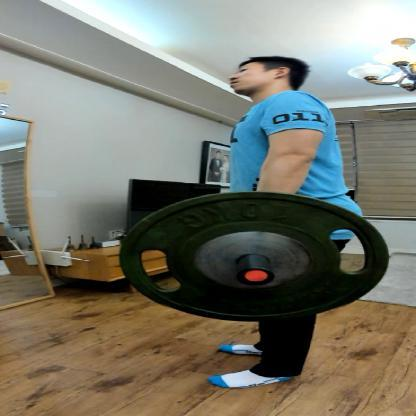Barbell: (231, 267, 283, 291)
